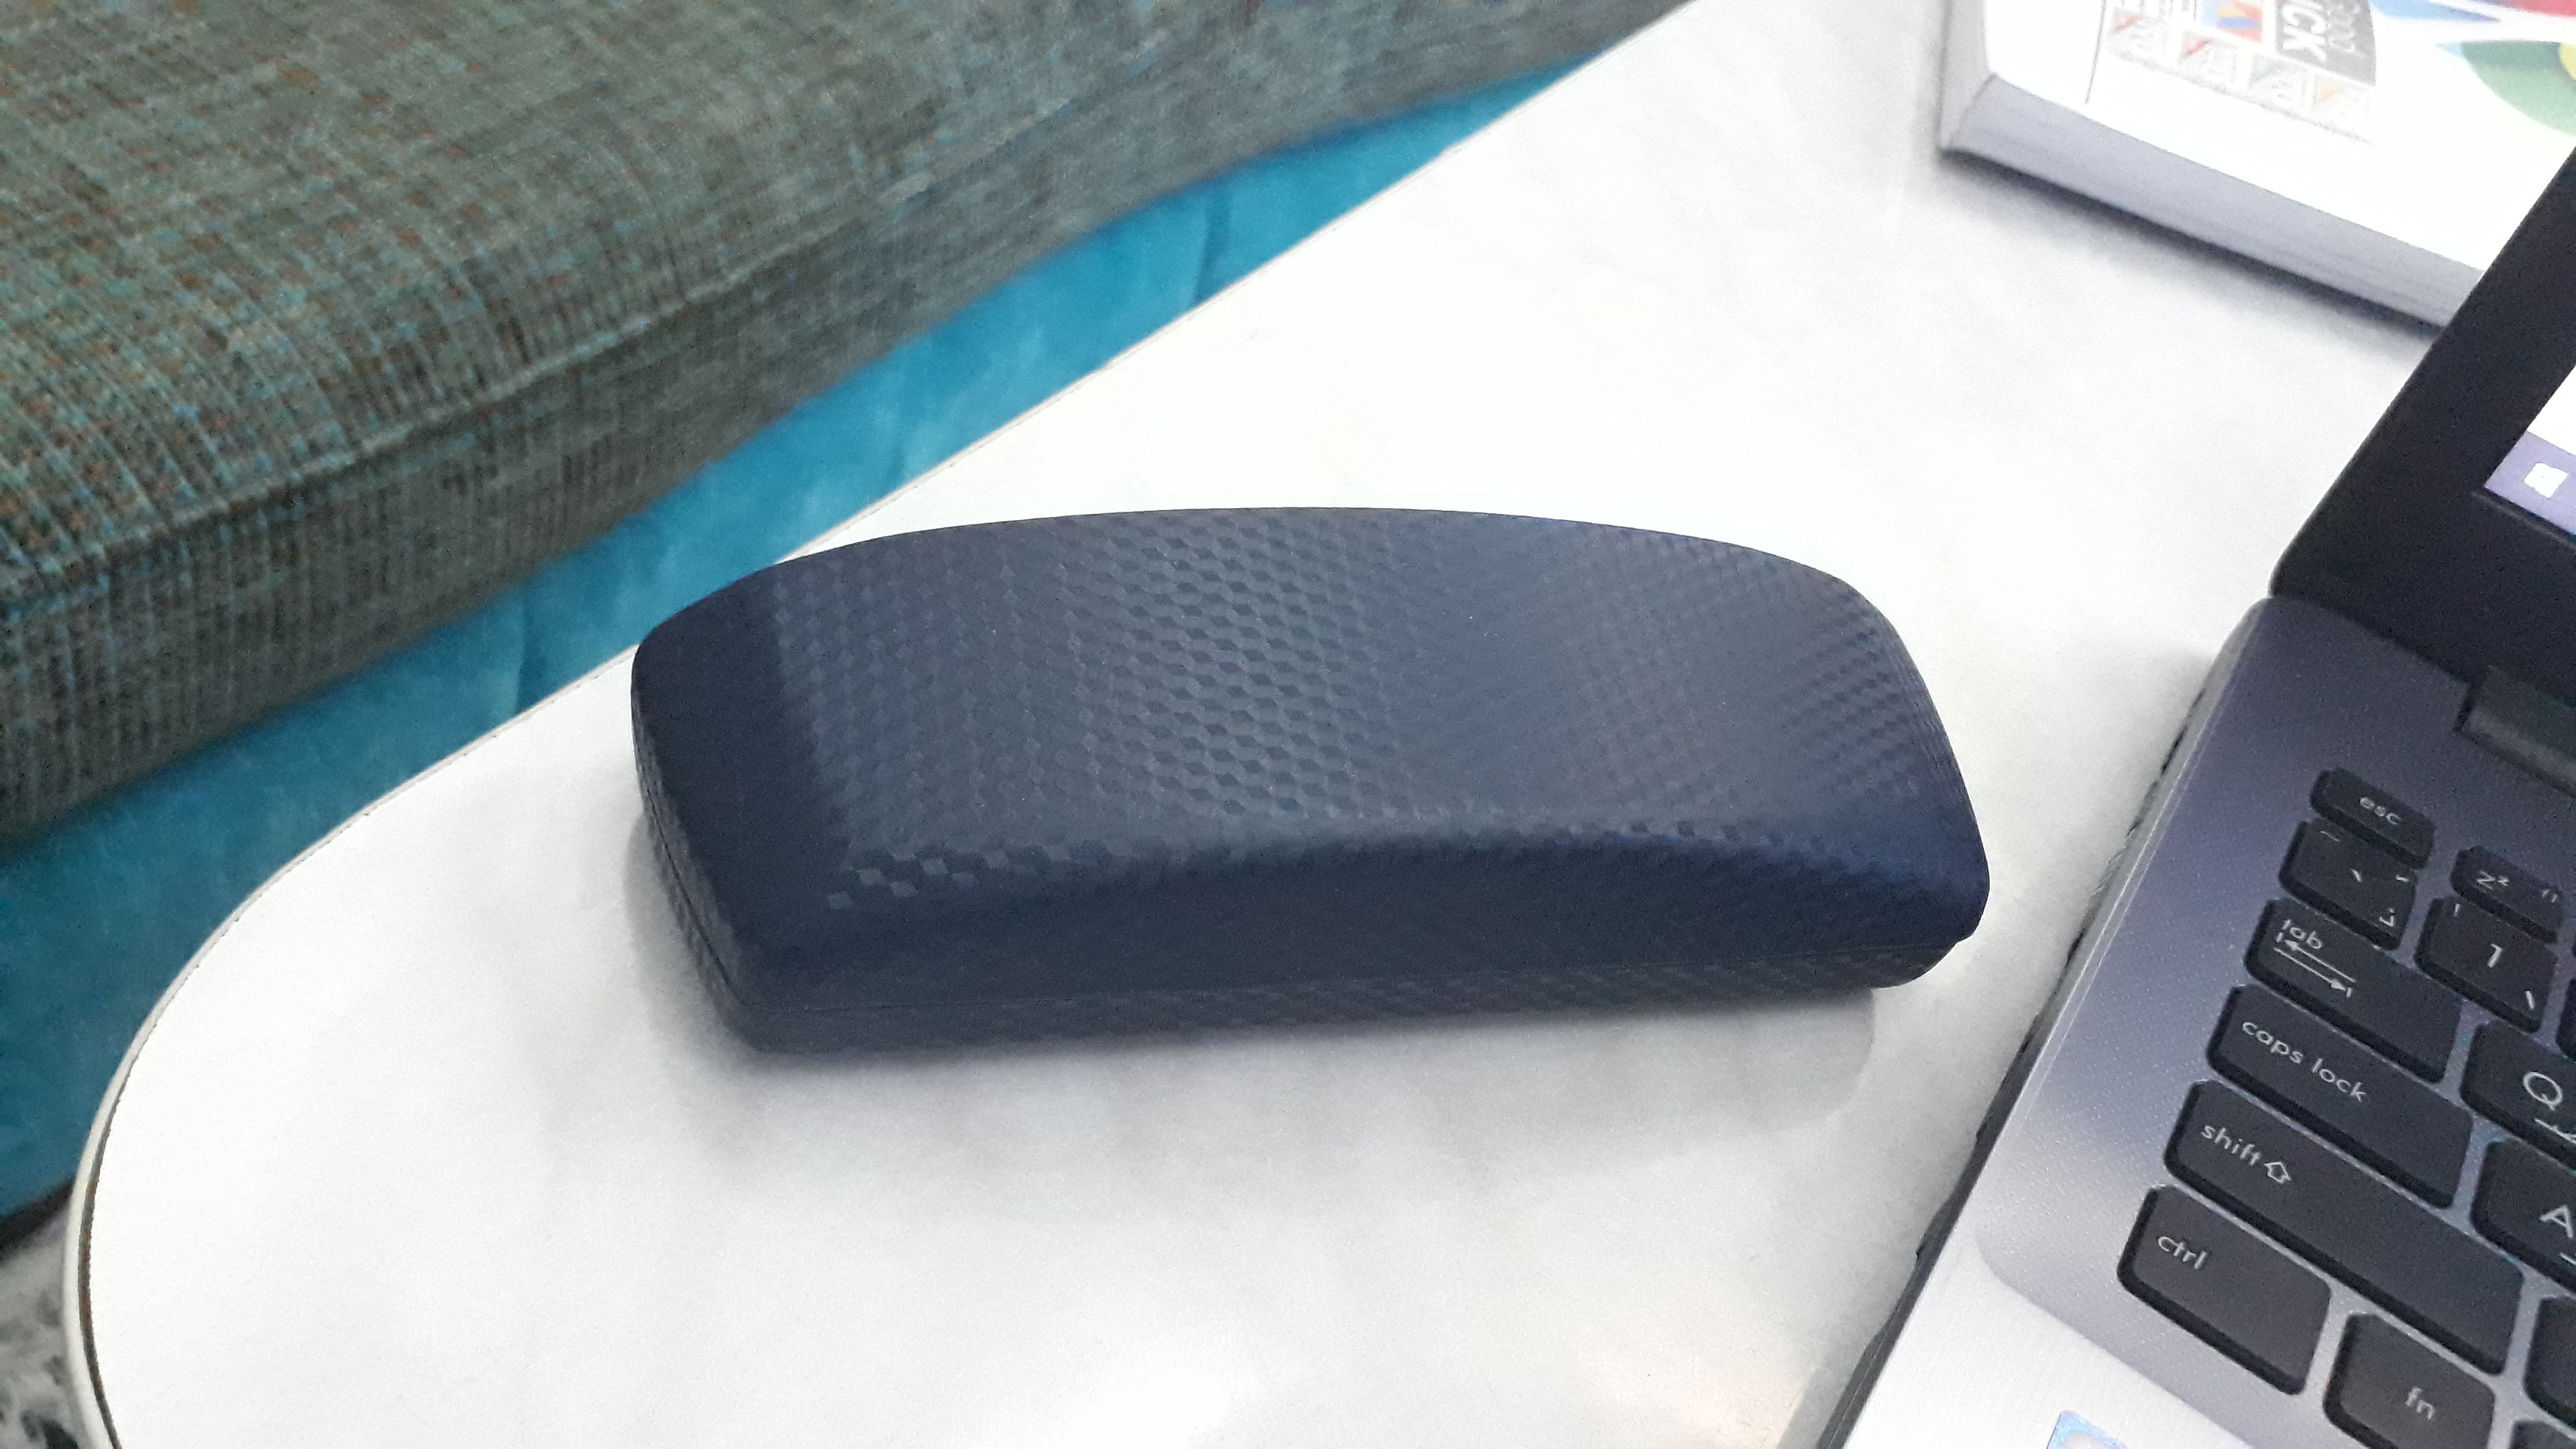nadar: (639, 495, 2001, 1086)
